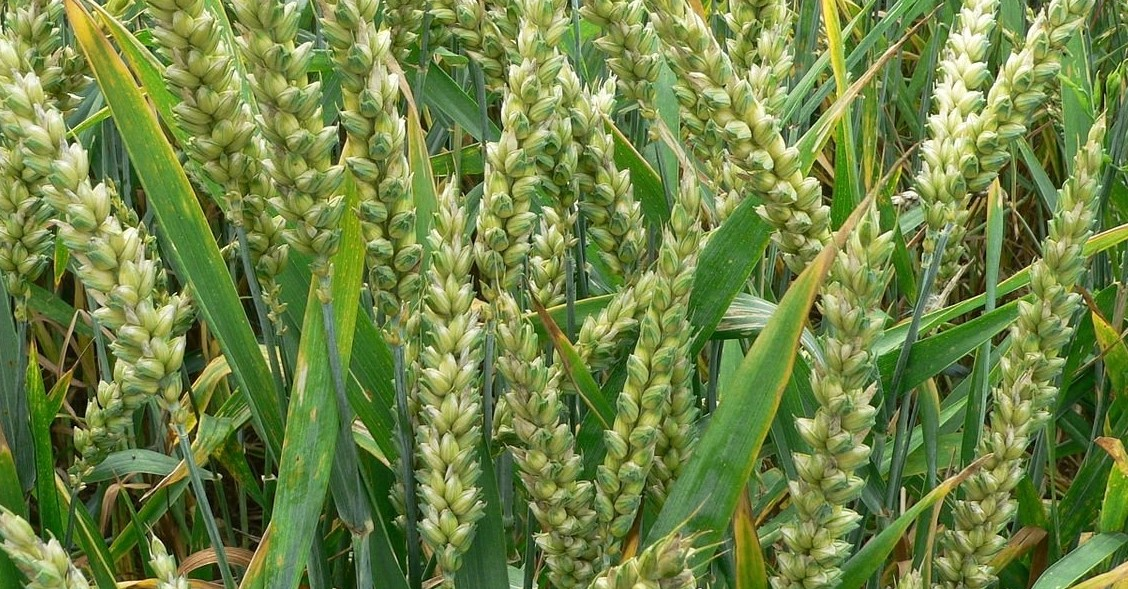Healthy Wheat: (775, 215, 912, 585), (596, 181, 712, 530), (395, 179, 492, 554)
